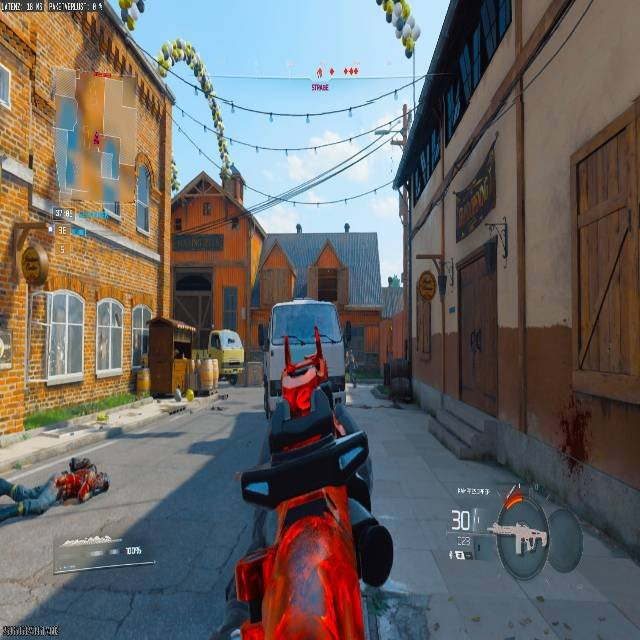head: (91, 471, 111, 492), (68, 456, 90, 473)
player: (344, 351, 359, 389)
